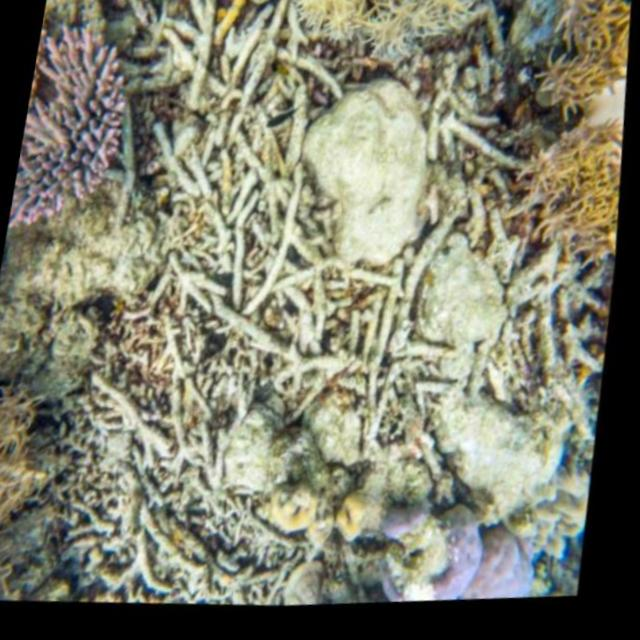Dead Coral: (0, 0, 619, 639)
